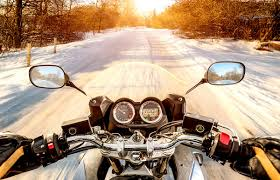motorcycle: (1, 60, 280, 180)
